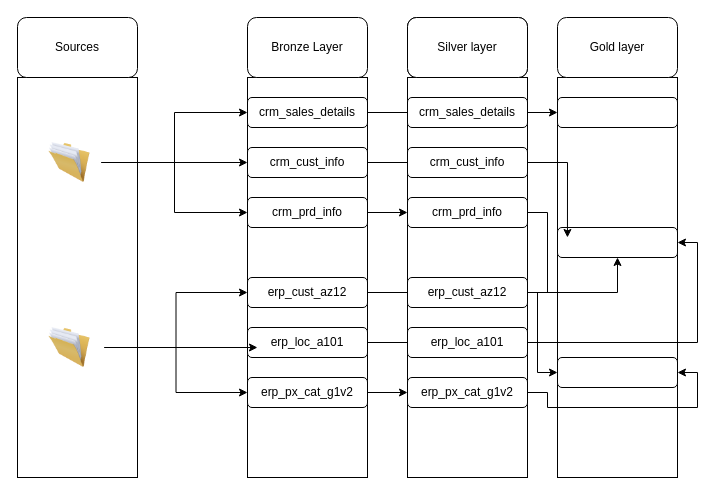
This 723x495 diagram has some shape labels left out. Each missing label, with the centre of its shape:
"crm" belongs at (x=69, y=162).
"dm_customers" belongs at (x=617, y=242).
"dm_products" belongs at (x=617, y=372).
"ERP" belongs at (x=69, y=347).
"fact_sales" belongs at (x=617, y=112).
